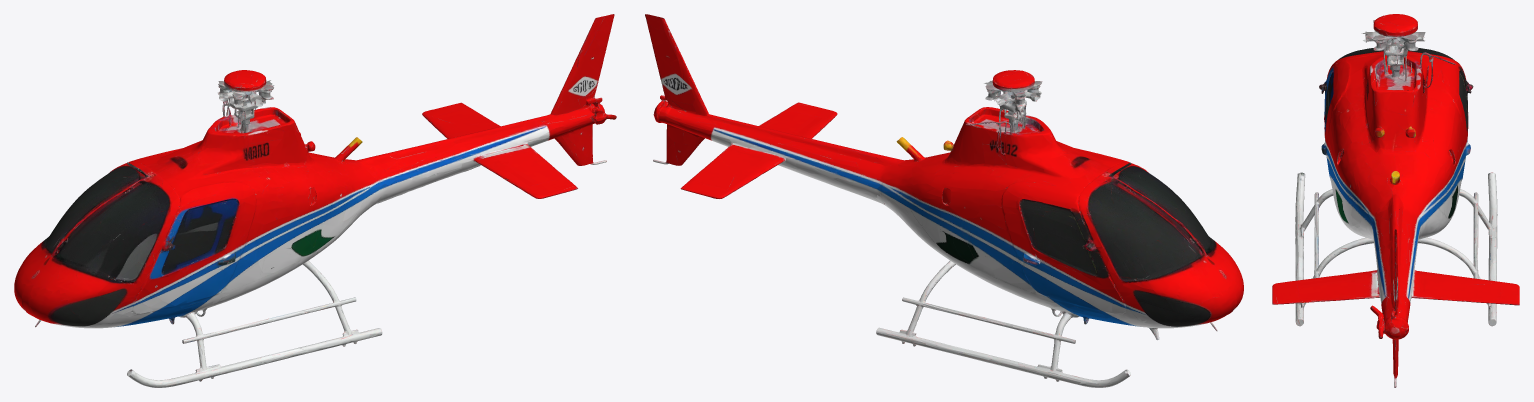
File: heli_body.glb
3 views of the same model, side by side, from view 1: azimuth 30°, elevation 25°; view 2: azimuth 150°, elevation 25°; view 3: azimuth 270°, elevation 25° (orthographic). The views are drawn at different scales.
Size of the model in its own units: 1.7 by 0.6827 by 0.5843.
1 material, 1 textured.
